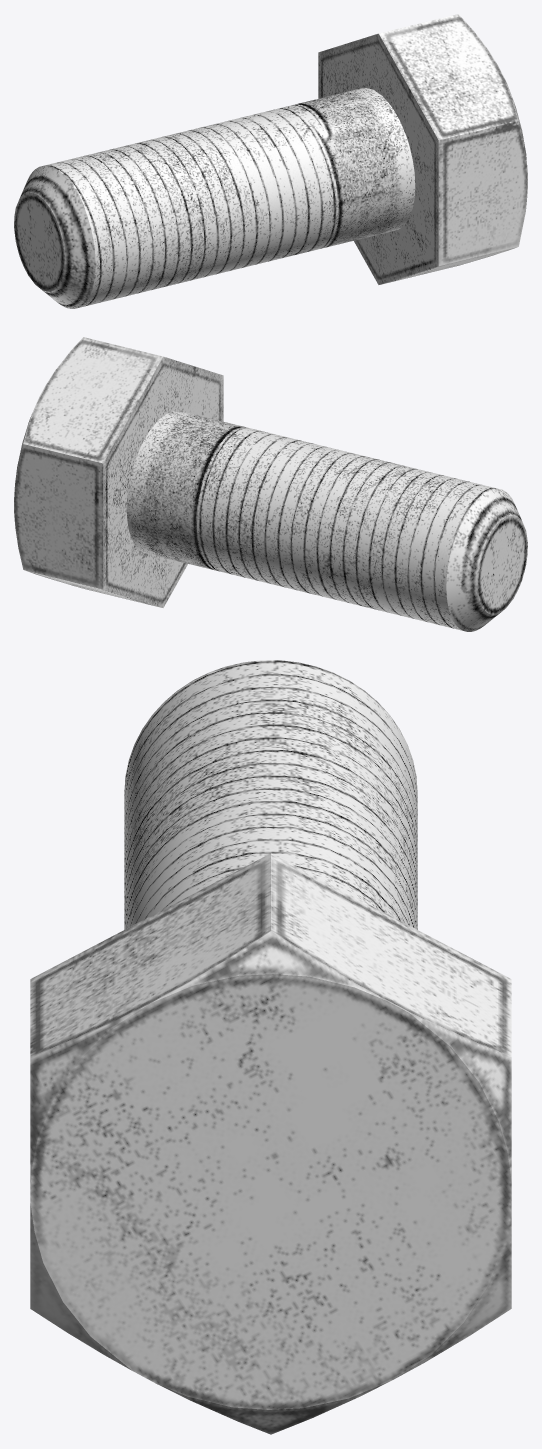
Rendered from Baut.fbx.
The picture shows the model from 3 angles, top to bottom: view 1: azimuth 30°, elevation 25°; view 2: azimuth 150°, elevation 25°; view 3: azimuth 270°, elevation 25°; orthographic projection. The views are drawn at different scales.
Visible parts, largest first — view 1: LowMesh; view 2: LowMesh; view 3: LowMesh.
Boxes of the visible parts, bbox=[...] form: LowMesh: bbox=[14, 14, 527, 308]; LowMesh: bbox=[14, 337, 527, 631]; LowMesh: bbox=[30, 660, 511, 1434].
Size of the model in its own units: 76.8 by 43.13 by 37.35.
Materials: 1 (1 with a texture image).
